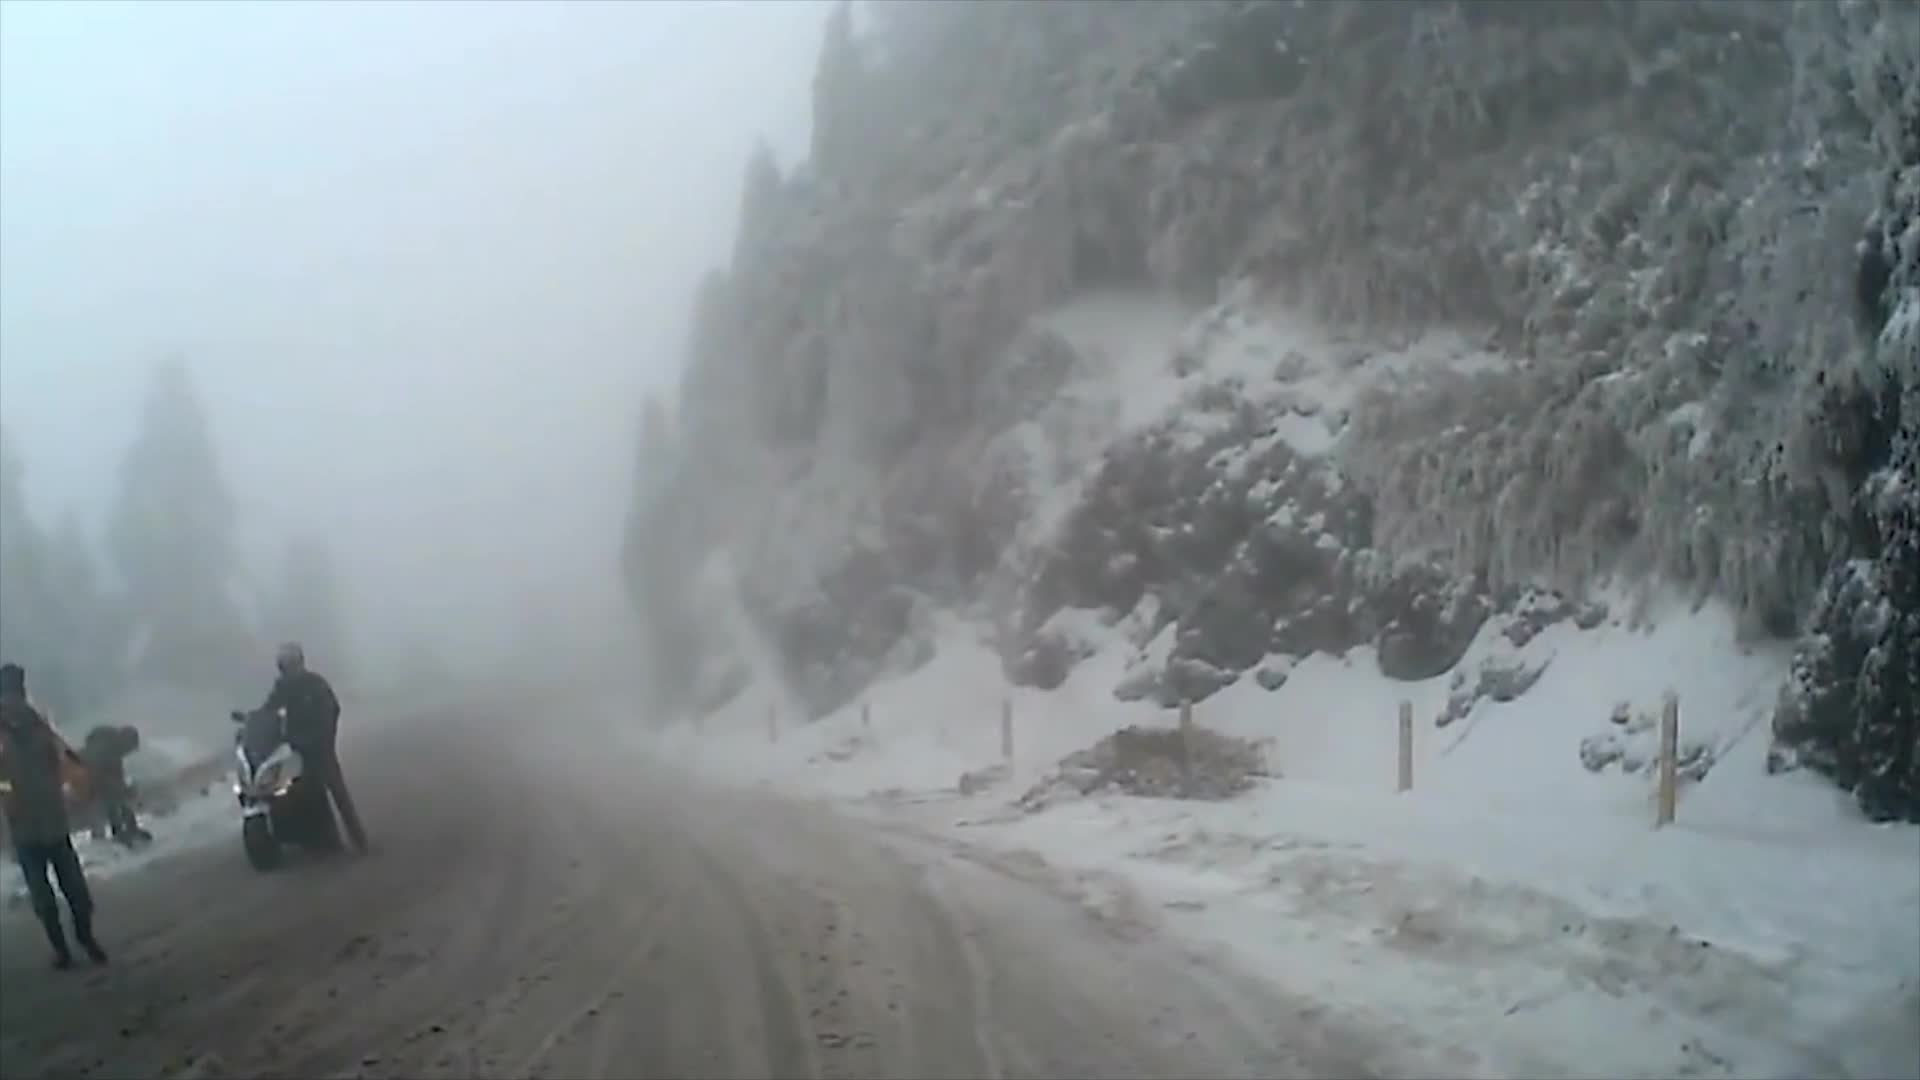pedestrian: (2, 663, 114, 970), (250, 636, 387, 866), (80, 729, 158, 849)
